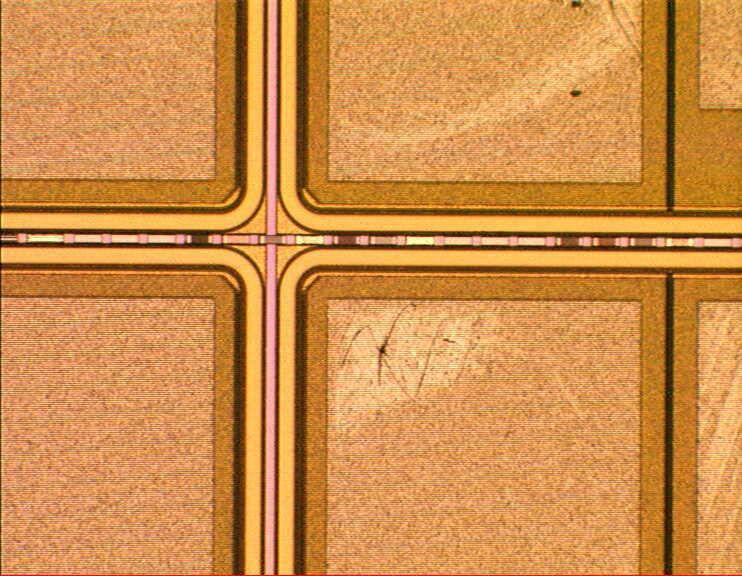SCRATCH: (321, 1, 742, 576)
